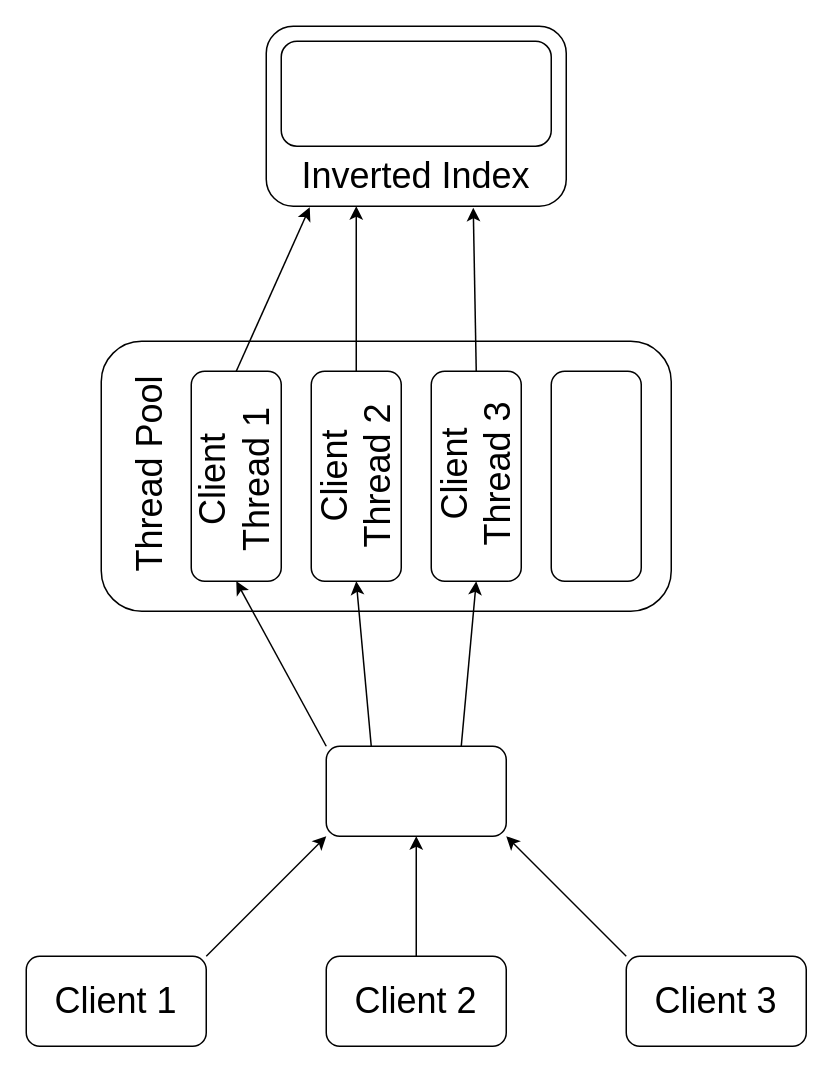
Some shapes in this 833 by 1073 pixel diagram are drawn without their labels. Each missing label, with the box of its shape:
Client Thread 4: (550, 370, 641, 581)
Disk Based Hash Table: (280, 40, 551, 146)
Server: (325, 745, 506, 836)
